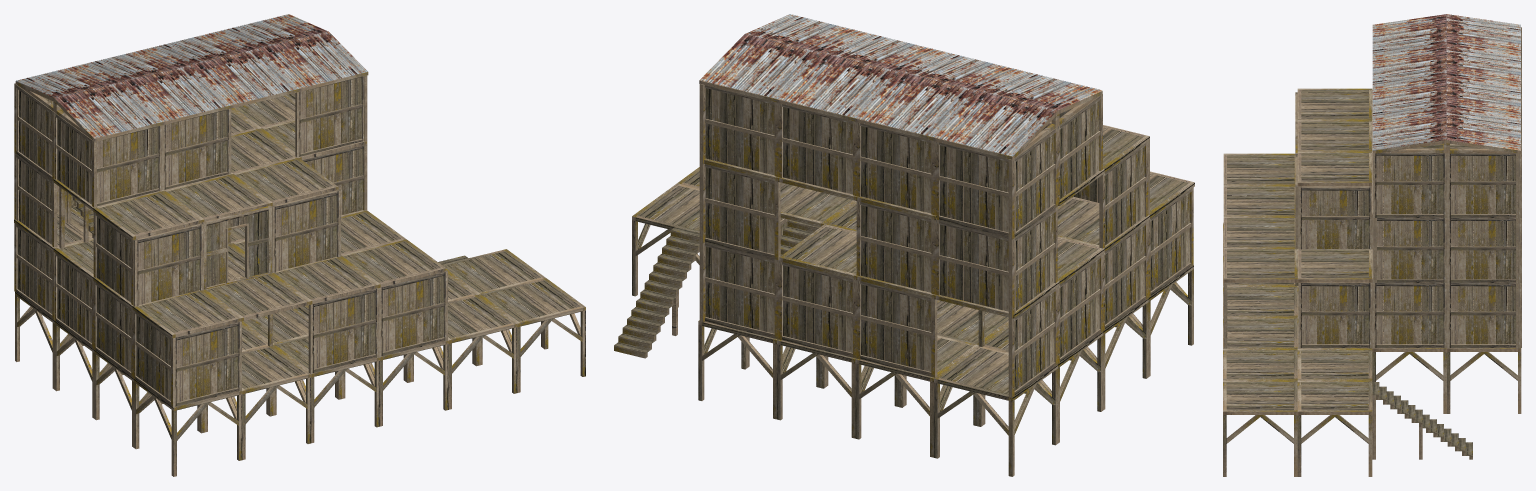
Rendered from Hut.glb.
The picture shows the model from 3 angles, left to right: view 1: azimuth 30°, elevation 25°; view 2: azimuth 150°, elevation 25°; view 3: azimuth 270°, elevation 25°; orthographic projection. The views are drawn at different scales.
Parts seen in each view (by area): view 1: visual_wooden wall .003, visual_wooden wall .002, visual_wooden wall .004, visual_wooden wall .028, visual_wooden wall .029, visual_wooden wall .038, visual_wooden wall .040, visual_floor1.025, visual_wooden wall .039, visual_rusty roof (1).008, visual_wooden wall with door.002, visual_rusty roof (1).007 (+39 smaller); view 2: visual_wooden wall .013, visual_wooden wall .015, visual_wooden wall .017, visual_wooden wall .033, visual_wooden wall .016, visual_wooden wall .034, visual_wooden wall .023, visual_wooden wall .032, visual_wooden wall .022, visual_floor1.016, visual_wooden wall .037, visual_rusty roof (1).003 (+32 smaller); view 3: visual_wooden wall .012, visual_wooden wall .011, visual_wooden wall .035, visual_wooden wall .019, visual_wooden wall .020, visual_wooden wall .036, visual_wooden wall .010, visual_wooden wall .018, visual_floor1.022, visual_floor1.025, visual_rusty roof (1).005, visual_rusty roof (1).010 (+24 smaller).
Boxes of the visible parts, x1=… form: visual_wooden wall .003: x1=308, y1=288, x2=379, y2=373; visual_wooden wall .002: x1=379, y1=270, x2=447, y2=356; visual_wooden wall .004: x1=173, y1=321, x2=241, y2=407; visual_wooden wall .028: x1=133, y1=223, x2=203, y2=306; visual_wooden wall .029: x1=272, y1=189, x2=340, y2=273; visual_wooden wall .038: x1=162, y1=108, x2=231, y2=190; visual_wooden wall .040: x1=295, y1=76, x2=363, y2=157; visual_floor1.025: x1=478, y1=278, x2=585, y2=392; visual_wooden wall .039: x1=92, y1=125, x2=162, y2=206; visual_rusty roof (1).008: x1=54, y1=81, x2=163, y2=141; visual_wooden wall with door.002: x1=202, y1=205, x2=271, y2=289; visual_rusty roof (1).007: x1=124, y1=64, x2=231, y2=124; visual_wooden wall .013: x1=857, y1=280, x2=937, y2=377; visual_wooden wall .015: x1=778, y1=260, x2=856, y2=358; visual_wooden wall .017: x1=705, y1=164, x2=780, y2=259; visual_wooden wall .033: x1=935, y1=141, x2=1015, y2=236; visual_wooden wall .016: x1=705, y1=242, x2=778, y2=339; visual_wooden wall .034: x1=778, y1=103, x2=856, y2=196; visual_wooden wall .023: x1=856, y1=201, x2=934, y2=294; visual_wooden wall .032: x1=857, y1=122, x2=934, y2=215; visual_wooden wall .022: x1=935, y1=220, x2=1015, y2=312; visual_floor1.016: x1=934, y1=346, x2=1057, y2=476; visual_wooden wall .037: x1=705, y1=85, x2=778, y2=176; visual_rusty roof (1).003: x1=934, y1=91, x2=1057, y2=159; visual_wooden wall .012: x1=1298, y1=282, x2=1372, y2=347; visual_wooden wall .011: x1=1372, y1=283, x2=1447, y2=347; visual_wooden wall .035: x1=1372, y1=153, x2=1447, y2=217; visual_wooden wall .019: x1=1298, y1=186, x2=1372, y2=249; visual_wooden wall .020: x1=1372, y1=218, x2=1447, y2=282; visual_wooden wall .036: x1=1447, y1=151, x2=1521, y2=217; visual_wooden wall .010: x1=1447, y1=283, x2=1521, y2=347; visual_wooden wall .018: x1=1447, y1=218, x2=1521, y2=282; visual_floor1.022: x1=1297, y1=380, x2=1372, y2=476; visual_floor1.025: x1=1223, y1=380, x2=1297, y2=476; visual_rusty roof (1).005: x1=1446, y1=108, x2=1520, y2=153; visual_rusty roof (1).010: x1=1372, y1=108, x2=1446, y2=153.
Size of what is drawn, in the model's own units: 37.48 by 25.27 by 24.96.
107 materials, 107 textured.
